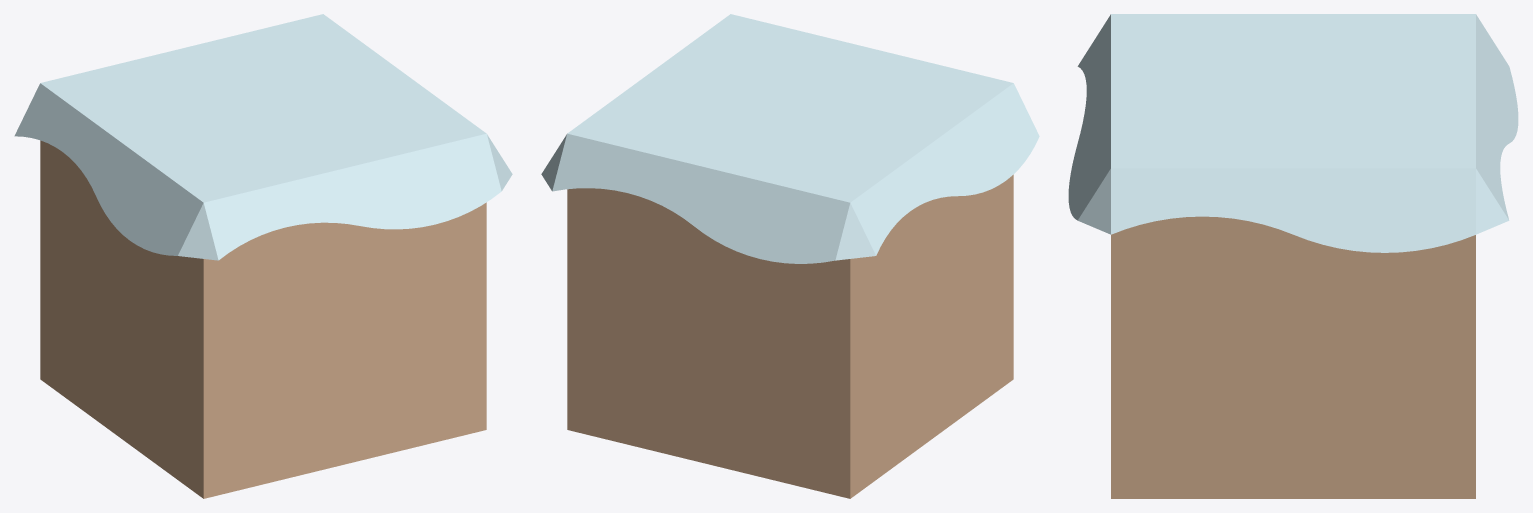
3 views of the same model, side by side, from view 1: azimuth 30°, elevation 25°; view 2: azimuth 150°, elevation 25°; view 3: azimuth 270°, elevation 25° (orthographic). The views are drawn at different scales.
Parts seen in each view (by area): view 1: blockSnow; view 2: blockSnow; view 3: blockSnow.
Boxes of the visible parts, bbox=[...] form: blockSnow: bbox=[14, 14, 512, 498]; blockSnow: bbox=[541, 14, 1039, 498]; blockSnow: bbox=[1068, 14, 1518, 498].
Bounding box in the file's own units: 1.23 × 1 × 1.23.
